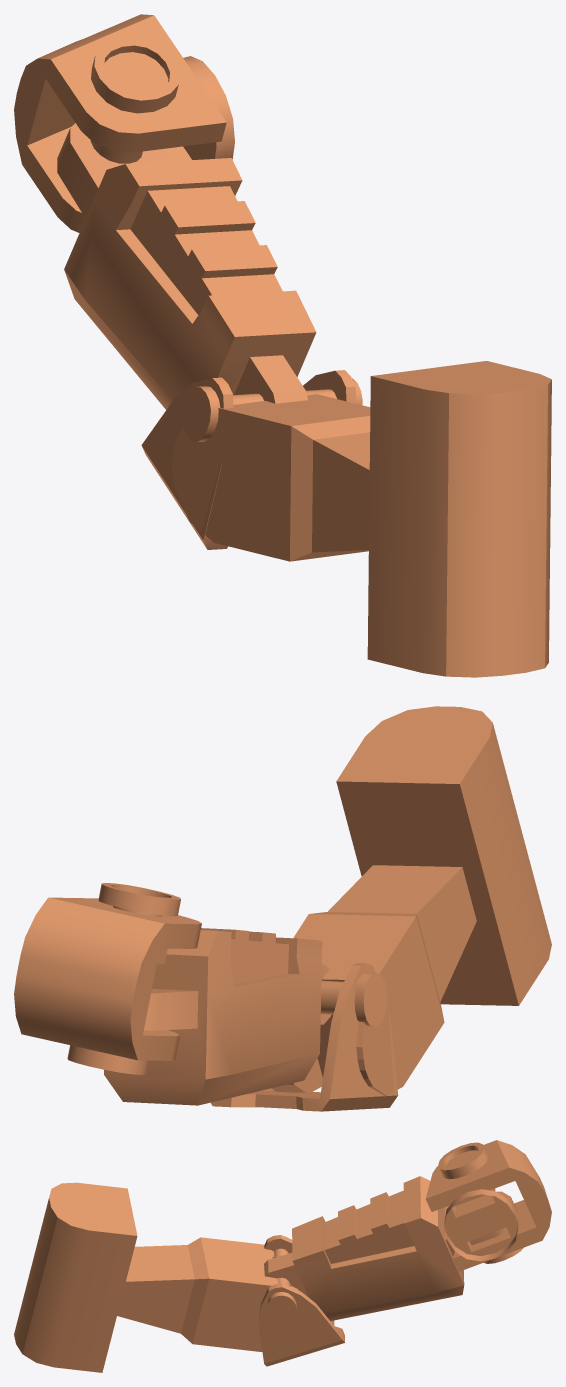
File: HelloWorld_Arm_Pedro.fbx
The picture shows the model from 3 angles, top to bottom: view 1: azimuth 30°, elevation 25°; view 2: azimuth 150°, elevation 25°; view 3: azimuth 270°, elevation 25°; orthographic projection. The views are drawn at different scales.
Parts seen in each view (by area): view 1: HelloWorldArm; view 2: HelloWorldArm; view 3: HelloWorldArm.
Boxes of the visible parts, x1=… form: HelloWorldArm: x1=14, y1=14, x2=551, y2=677; HelloWorldArm: x1=14, y1=706, x2=551, y2=1111; HelloWorldArm: x1=14, y1=1140, x2=551, y2=1372.
Size of the model in its own units: 84.32 by 158 by 359.
